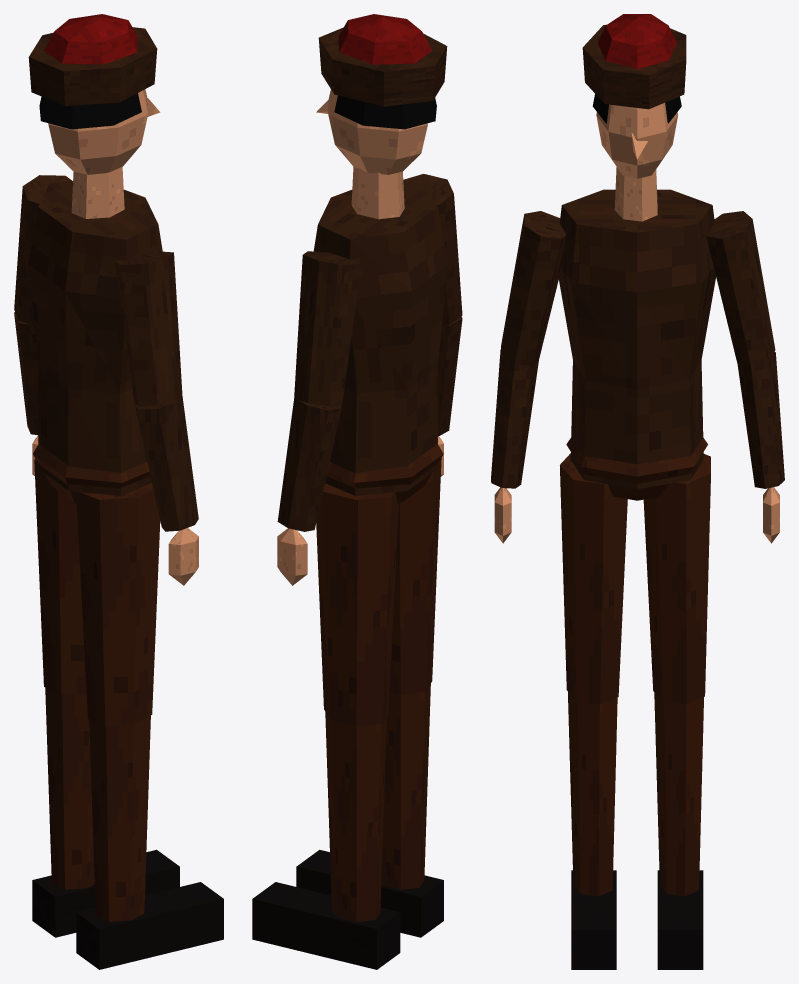
Rendered from cazador_bosque.glb.
The picture shows the model from 3 angles, left to right: view 1: azimuth 30°, elevation 25°; view 2: azimuth 150°, elevation 25°; view 3: azimuth 270°, elevation 25°; orthographic projection.
Visible parts, largest first — view 1: torso, muslo_der, pierna_der, muslo_izq, pierna_izq, brazo_der, pie_der, gorro, antebrazo_der, cabeza, pie_izq, gorro_2 (+6 smaller); view 2: torso, muslo_izq, pierna_izq, muslo_der, pierna_der, brazo_izq, pie_izq, gorro, antebrazo_izq, cabeza, pie_der, gorro_2 (+6 smaller); view 3: torso, muslo_der, muslo_izq, pierna_izq, pierna_der, brazo_izq, brazo_der, gorro, antebrazo_izq, antebrazo_der, cabeza, pie_izq (+6 smaller).
Boxes of the visible parts, bbox=[...] form: torso: bbox=[28, 181, 162, 495]; muslo_der: bbox=[76, 483, 160, 725]; pierna_der: bbox=[89, 715, 150, 921]; muslo_izq: bbox=[34, 458, 86, 694]; pierna_izq: bbox=[45, 687, 94, 889]; brazo_der: bbox=[115, 251, 182, 406]; pie_der: bbox=[76, 882, 223, 969]; gorro: bbox=[28, 27, 157, 105]; antebrazo_der: bbox=[134, 396, 198, 531]; cabeza: bbox=[48, 89, 160, 174]; pie_izq: bbox=[32, 849, 179, 937]; gorro_2: bbox=[44, 14, 137, 64]; torso: bbox=[313, 181, 448, 495]; muslo_izq: bbox=[316, 483, 398, 726]; pierna_izq: bbox=[325, 712, 386, 921]; muslo_der: bbox=[389, 458, 441, 694]; pierna_der: bbox=[381, 684, 430, 889]; brazo_izq: bbox=[294, 251, 361, 406]; pie_izq: bbox=[252, 882, 400, 969]; gorro: bbox=[318, 27, 447, 106]; antebrazo_izq: bbox=[277, 397, 341, 531]; cabeza: bbox=[316, 89, 427, 174]; pie_der: bbox=[296, 849, 443, 937]; gorro_2: bbox=[338, 14, 432, 64]; torso: bbox=[559, 189, 715, 489]; muslo_der: bbox=[560, 453, 627, 704]; muslo_izq: bbox=[643, 454, 710, 704]; pierna_izq: bbox=[654, 692, 703, 896]; pierna_der: bbox=[568, 692, 617, 896]; brazo_izq: bbox=[706, 211, 775, 366]; brazo_der: bbox=[501, 211, 566, 365]; gorro: bbox=[582, 24, 686, 109]; antebrazo_izq: bbox=[737, 351, 784, 488]; antebrazo_der: bbox=[491, 349, 538, 488]; cabeza: bbox=[596, 102, 677, 178]; pie_izq: bbox=[657, 870, 703, 969].
Size of the model in its own units: 0.3 by 1.7 by 0.5.
1 material, 1 textured.
